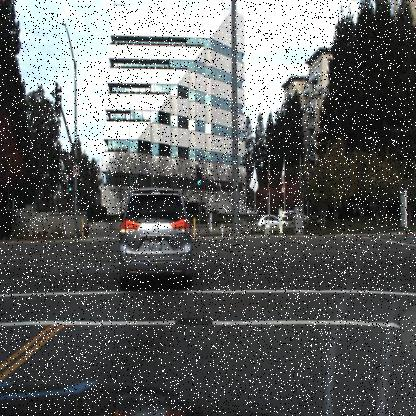car: (116, 182, 194, 288), (280, 206, 309, 230), (258, 212, 285, 230)
trafficLight-Green: (192, 152, 208, 201), (59, 172, 73, 203), (195, 162, 202, 189), (66, 177, 74, 196)
